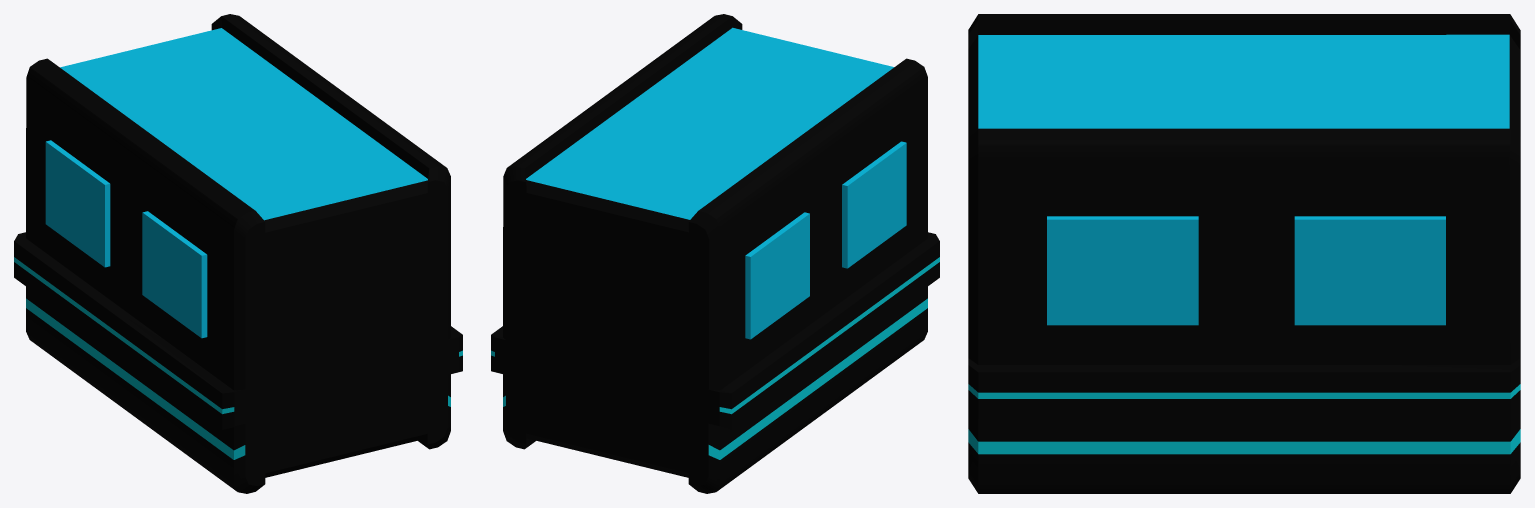
The model's file is body.fbx.
The picture shows the model from 3 angles, left to right: view 1: azimuth 30°, elevation 25°; view 2: azimuth 150°, elevation 25°; view 3: azimuth 270°, elevation 25°; orthographic projection. The views are drawn at different scales.
Visible parts, largest first — view 1: pCube10; view 2: pCube10; view 3: pCube10.
Boxes of the visible parts, x1,y1,x2,y2 form: pCube10: [14, 14, 462, 493]; pCube10: [491, 14, 939, 493]; pCube10: [968, 14, 1520, 493].
Bounding box in the file's own units: 3.56 × 3.97 × 5.53.
